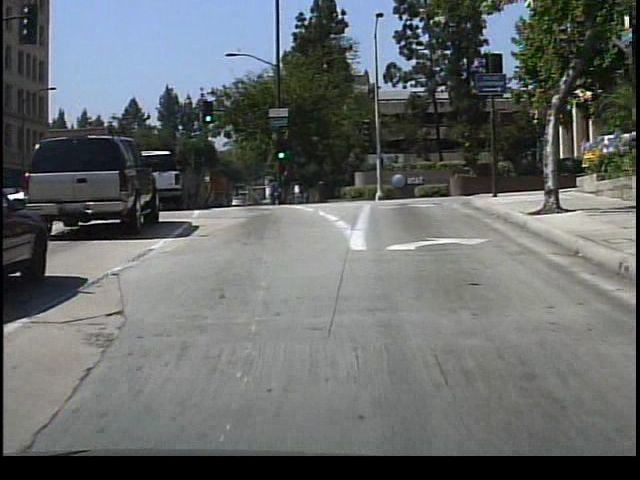person: (263, 171, 284, 207), (291, 178, 305, 205)
